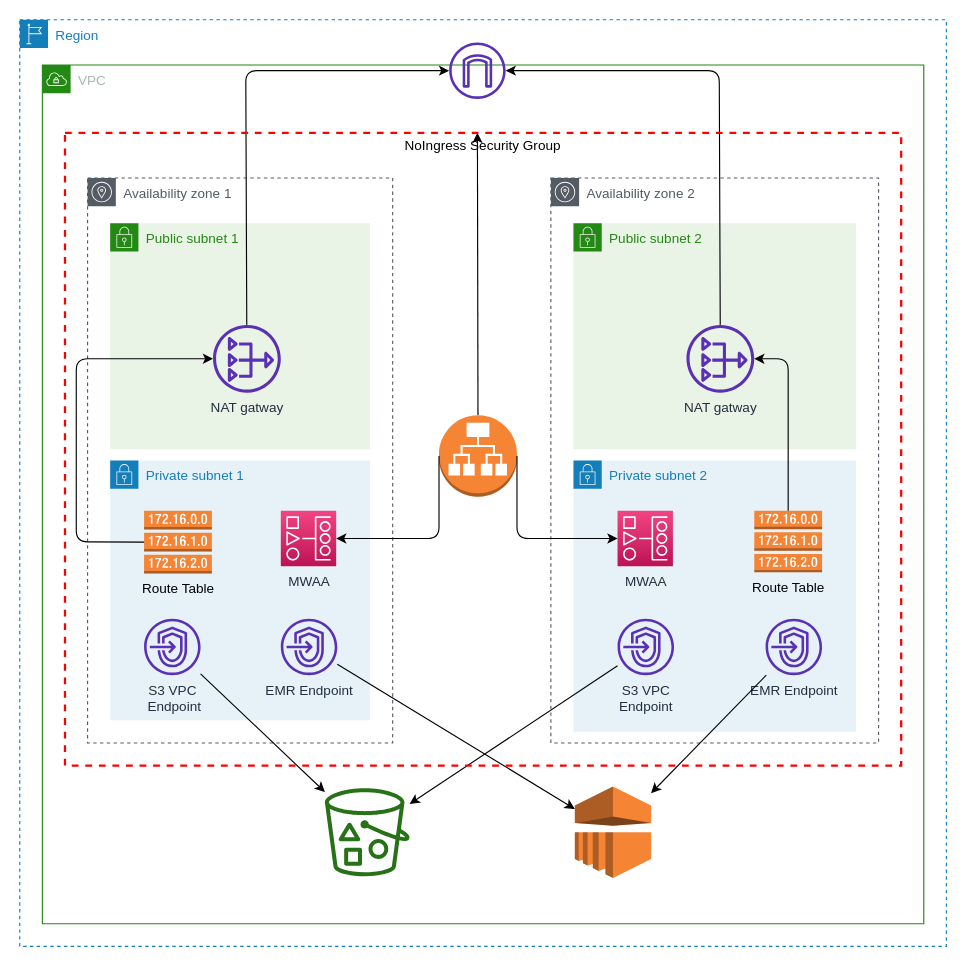
This 966x966 diagram has some shape labels left out. Each missing label, with the centre of its shape:
"ALB" belongs at (x=477, y=455).
"EMR" belongs at (x=612, y=831).
"Internet Gateway" belongs at (x=477, y=70).
"S3 Bucket" belongs at (x=366, y=832).
